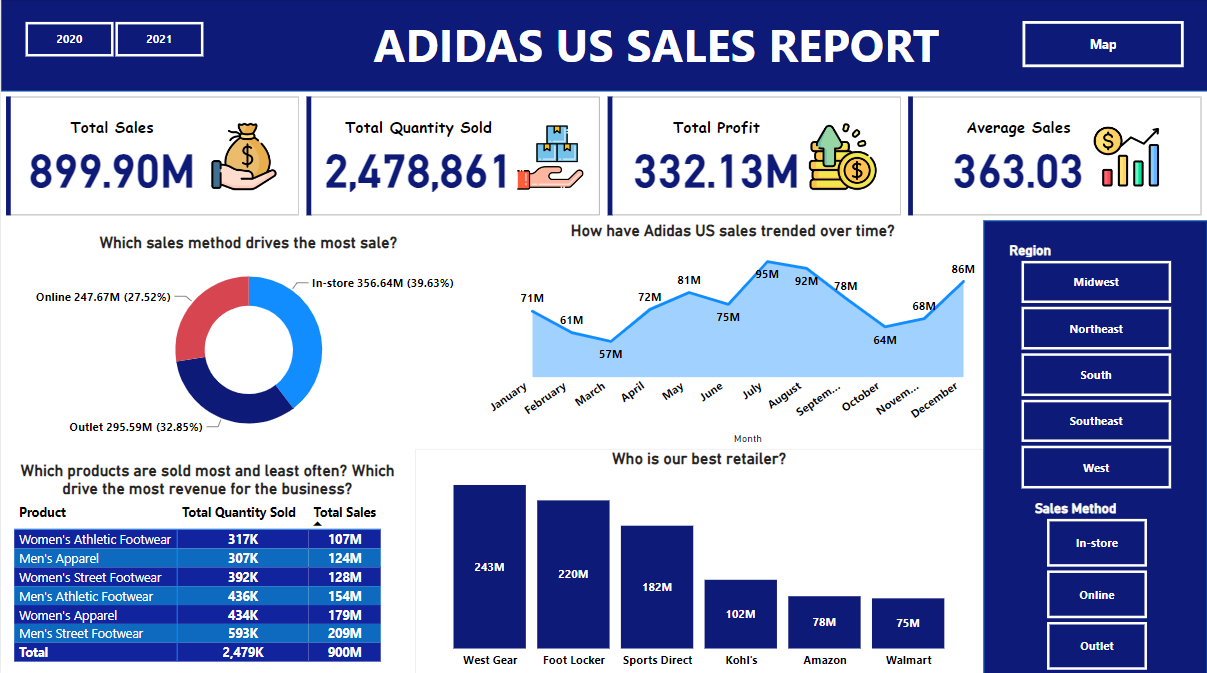

What the dashboard file says about the page in this screenshot:
{"tool":"powerbi","page":{"name":"Sales Report","canvas":[1280,720],"ordinal":0},"visuals":[{"type":"shape","box":[0,0,1498.4,100.2],"z":0,"group":"g1"},{"type":"cardVisual","fields":{"Data":["Data Sales Adidas.Total Revenue","Data Sales Adidas.Total Quantity Sold","Data Sales Adidas.Total Profit","Data Sales Adidas.Average Revenue"]},"box":[0,100.2,1280.4,136.8],"z":0},{"type":"textbox","box":[383.3,11.1,623.5,79.5],"z":1000,"group":"g1"},{"type":"columnChart","title":"Who is our best retailer?","fields":{"Y":["Data Sales Adidas.Total Revenue"],"Category":["Data Sales Adidas.Retailer"]},"box":[439,478.8,602.8,241.8],"z":1000},{"type":"areaChart","title":"How have Adidas US sales trended over time?","fields":{"Category":["Data Sales Adidas.Invoice Date.Variation.Date Hierarchy.Year","Data Sales Adidas.Invoice Date.Variation.Date Hierarchy.Month"],"Y":["Data Sales Adidas.Total Revenue"]},"box":[510.6,237,531.3,241.8],"z":2000},{"type":"pivotTable","title":"Which products are sold most and least often? Which drive the most revenue for the business?","fields":{"Rows":["Data Sales Adidas.Product"],"Values":["Data Sales Adidas.Total Quantity Sold","Data Sales Adidas.Total Sales"]},"box":[0,478.8,439,241.8],"z":3000},{"type":"donutChart","title":"Which sales method drives the most sale?","fields":{"Category":["Data Sales Adidas.Sales Method"],"Y":["Data Sales Adidas.Total Sales"]},"box":[14.3,249.7,496.3,229],"z":4000},{"type":"shape","box":[1041.9,237,238.6,483.5],"z":5000},{"type":"slicer","fields":{"Values":["Data Sales Adidas.Region"]},"box":[1056.2,254.5,208.4,273.6],"z":6000},{"type":"group","id":"g1","title":"Group 1","box":[0,0,1498.4,100.2],"z":7000},{"type":"slicer","fields":{"Values":["Data Sales Adidas.Invoice Date.Variation.Date Hierarchy.Year"]},"box":[0,19.1,238.6,50.9],"z":8000},{"type":"pageNavigator","box":[1083.2,25.4,171.8,49.3],"z":9000},{"type":"slicer","fields":{"Values":["Data Sales Adidas.Sales Method"]},"box":[1083.2,528.1,155.9,192.5],"z":10000}]}

Visuals, with their boxes in screenshot pixels (x1, y1, x2, y2), scaled from the page's 1280x720 canvas onto the 1207x673 screenshot:
shape: rect(0, 0, 1206, 94)
cardVisual - Data Sales Adidas.Total Revenue x Data Sales Adidas.Total Quantity Sold: rect(0, 94, 1206, 222)
textbox: rect(361, 10, 949, 85)
"Who is our best retailer?" columnChart: rect(414, 448, 982, 672)
"How have Adidas US sales trended over time?" areaChart: rect(481, 222, 982, 448)
"Which products are sold most and least often? Which drive the most revenue for the business?" pivotTable: rect(0, 448, 414, 672)
"Which sales method drives the most sale?" donutChart: rect(13, 233, 481, 447)
shape: rect(982, 222, 1206, 672)
slicer - Data Sales Adidas.Region: rect(996, 238, 1192, 494)
"Group 1" group: rect(0, 0, 1206, 94)
slicer - Data Sales Adidas.Invoice Date.Variation.Date Hierarchy.Year: rect(0, 18, 225, 65)
pageNavigator: rect(1021, 24, 1183, 70)
slicer - Data Sales Adidas.Sales Method: rect(1021, 494, 1168, 672)
